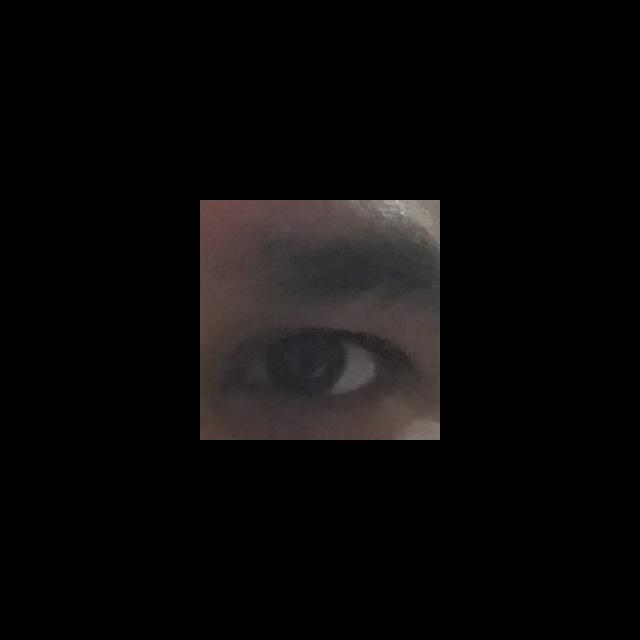eye: (239, 336, 377, 396)
iris: (267, 337, 347, 394)
